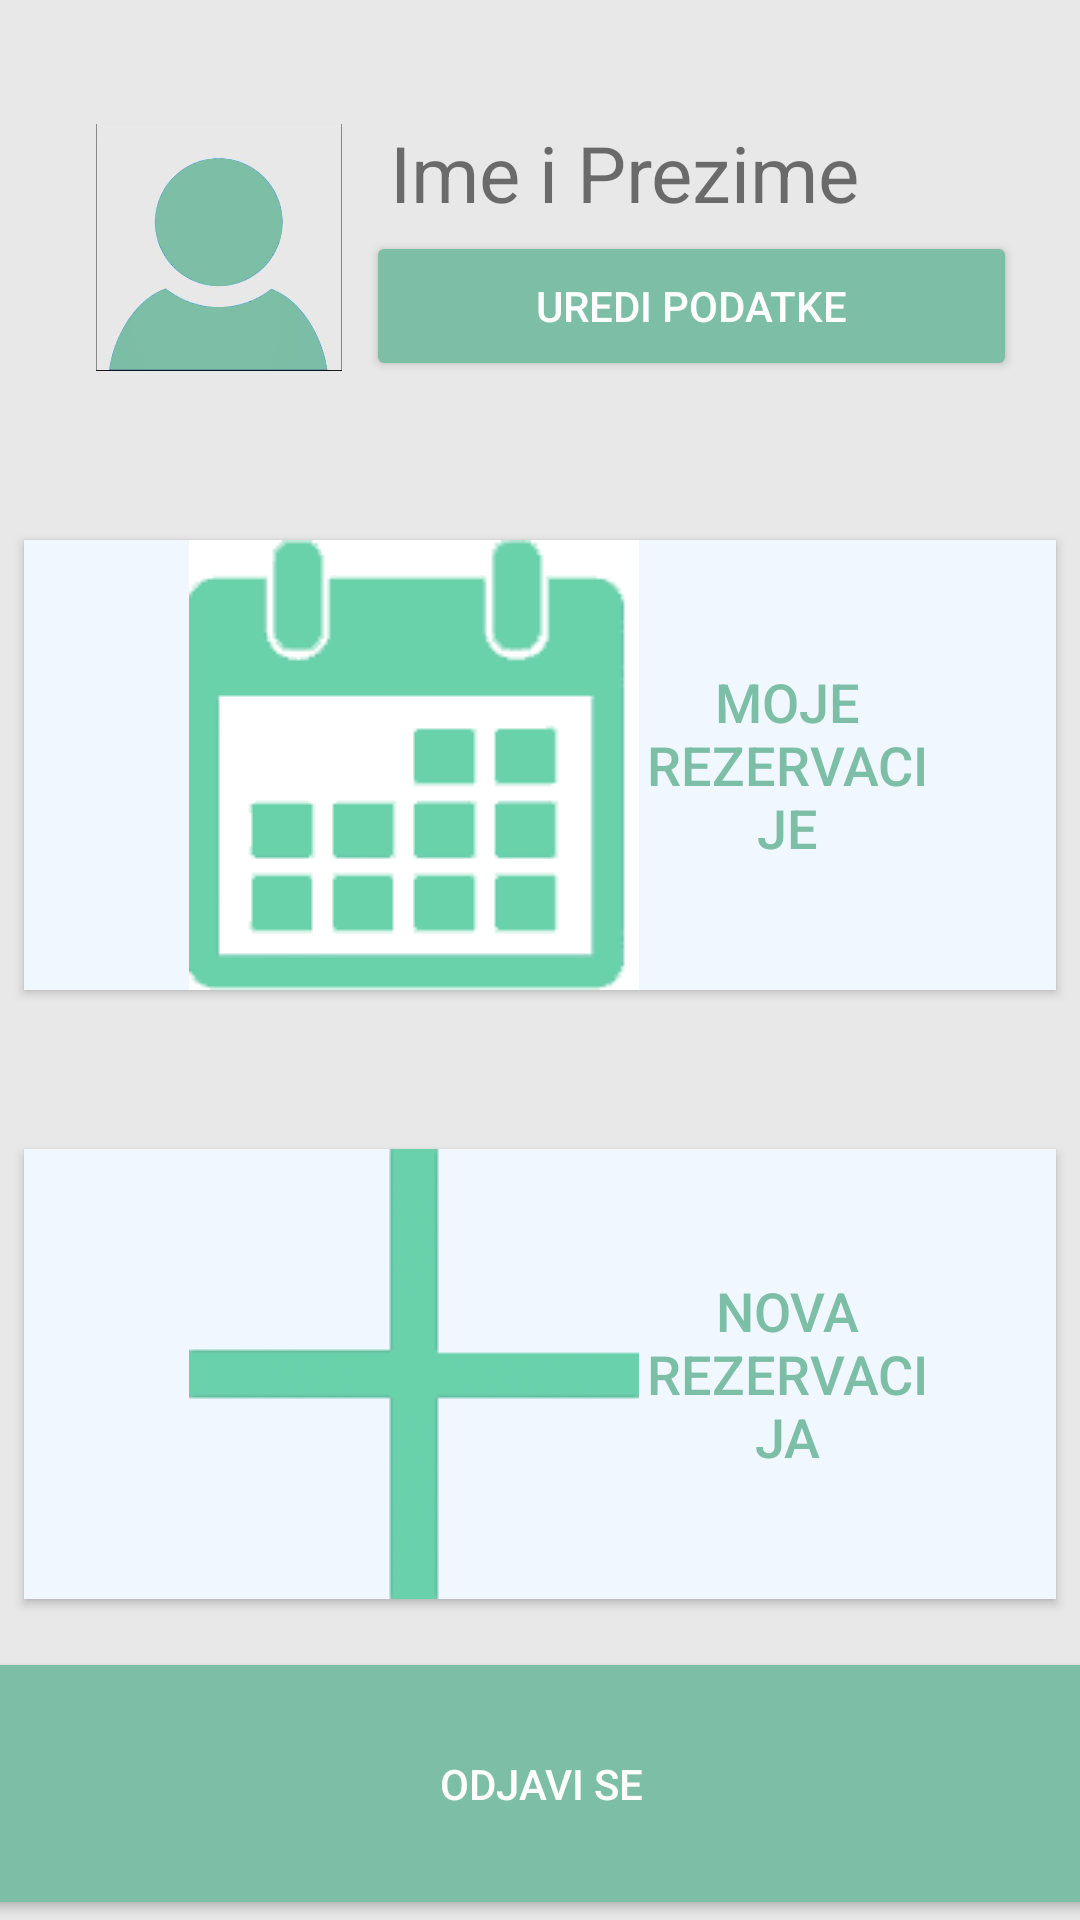

Point at icon controls on the screen. Image size 1080px×1920px, points as point (x, y).
user: point (219, 247)
